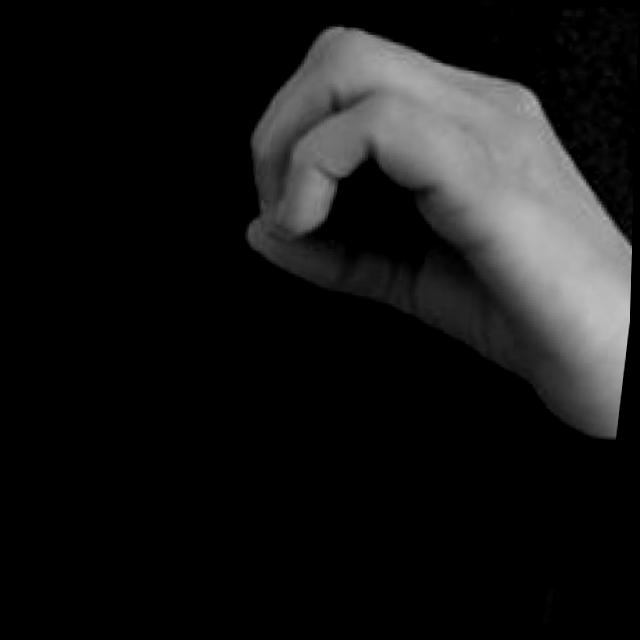O: (211, 0, 640, 445)
